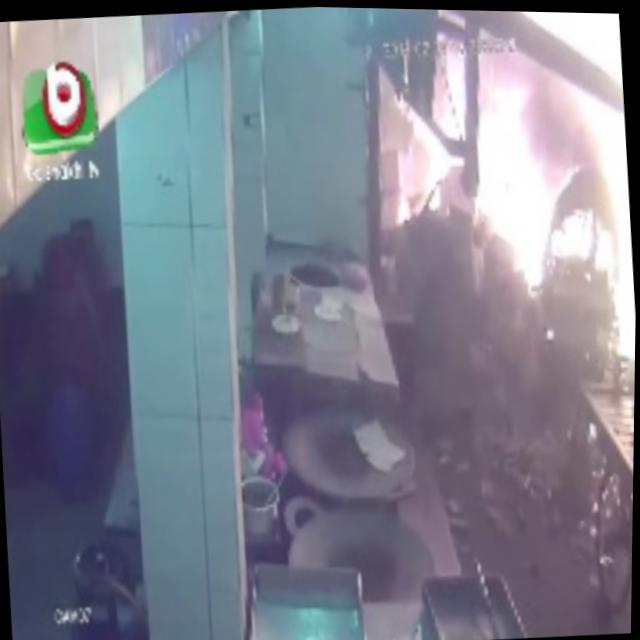fire: (392, 7, 631, 219)
